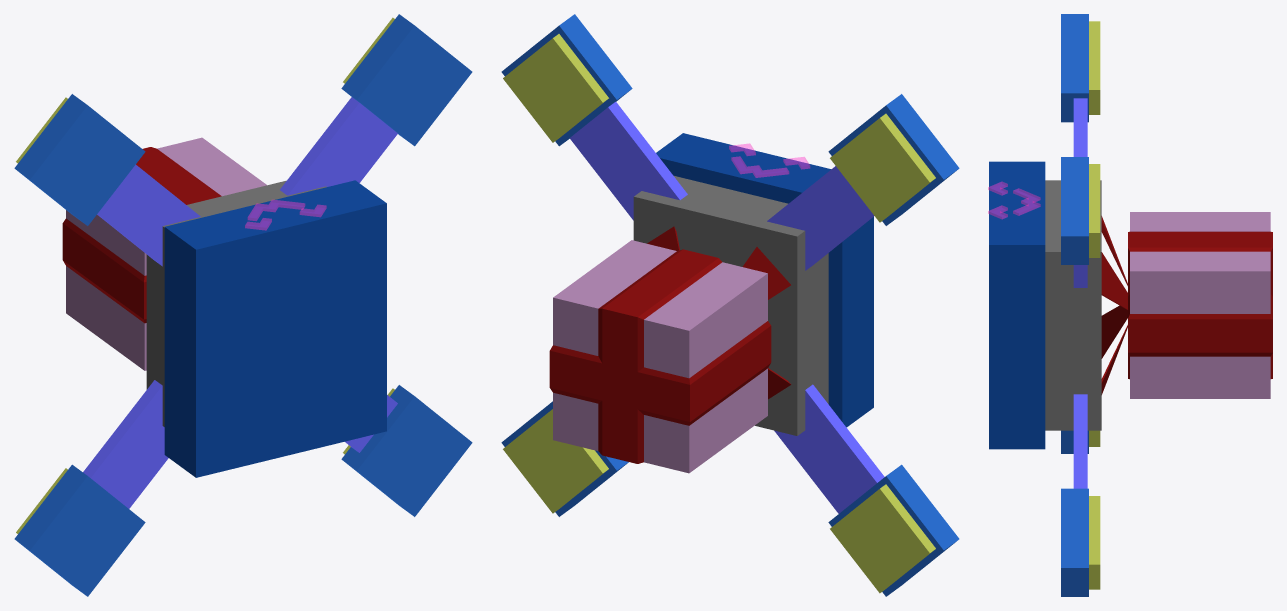
The model's file is [FIX]_ScavengeFull.FBX.
3 renders of one model, left to right at view 1: azimuth 30°, elevation 25°; view 2: azimuth 150°, elevation 25°; view 3: azimuth 270°, elevation 25°, orthographic. The views are drawn at different scales.
Parts seen in each view (by area): view 1: Drone, Present; view 2: Drone, Present, Ribbons; view 3: Drone, Present, Ribbons, Mouth.
Boxes of the visible parts, bbox=[...] form: Drone: bbox=[14, 14, 472, 596]; Present: bbox=[62, 137, 266, 370]; Drone: bbox=[501, 14, 959, 596]; Present: bbox=[549, 240, 771, 473]; Ribbons: bbox=[647, 226, 791, 399]; Drone: bbox=[989, 14, 1101, 596]; Present: bbox=[1128, 212, 1272, 398]; Ribbons: bbox=[1101, 216, 1127, 394]; Mouth: bbox=[1013, 188, 1040, 215].
Size of the model in its own units: 81.21 by 86.21 by 50.56.
